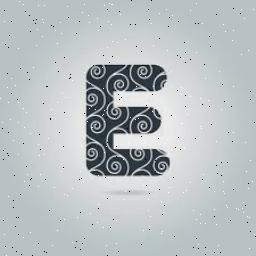e: (84, 58, 176, 180)
